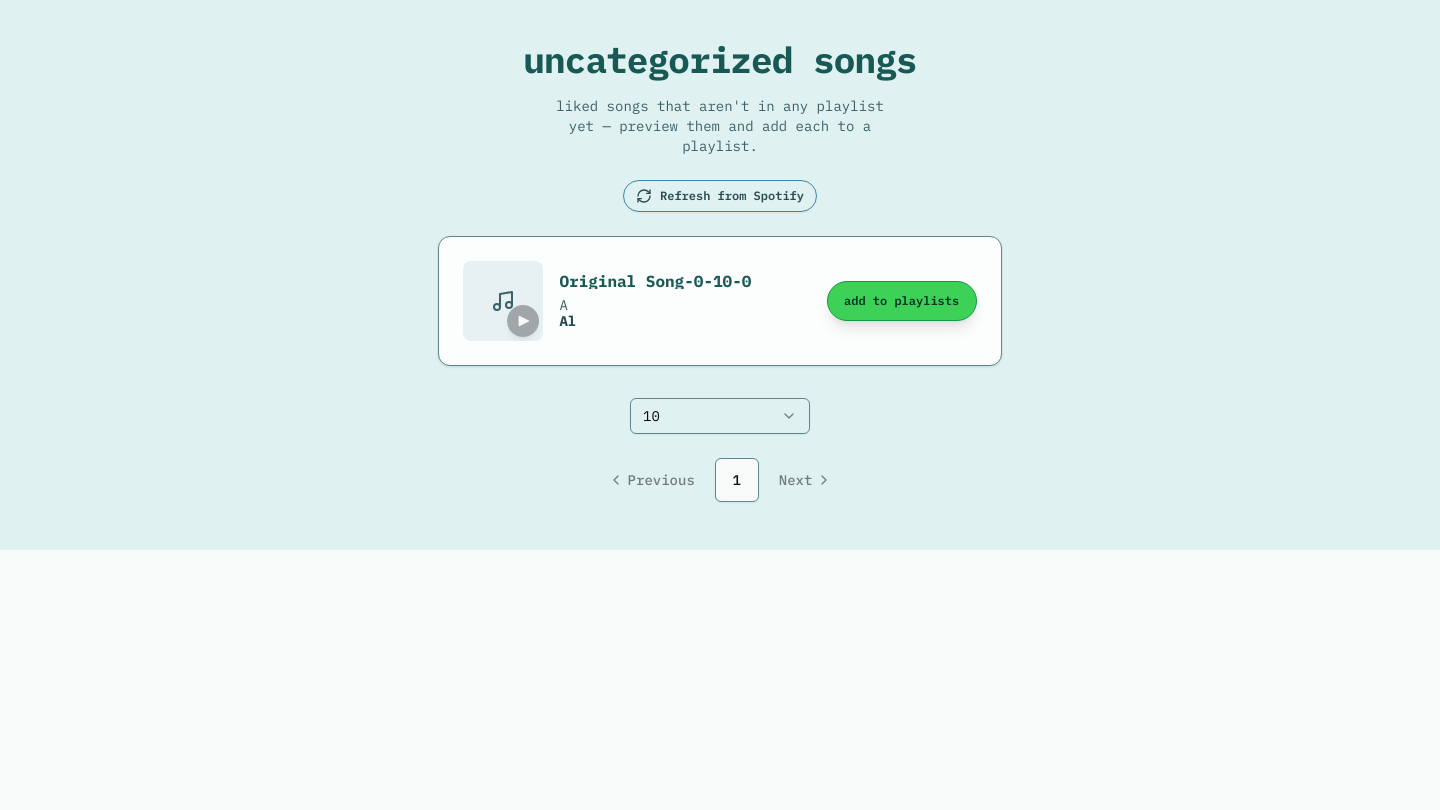
Organize page › refresh from Spotify control › toasts on failure and leaves the displayed songs unchanged
Check: the heading "Original Song-0-10-0" is shown, box [559,273,751,289]
Click the button "Refresh from Spotify" at point(720, 196), box [623,180,817,212]
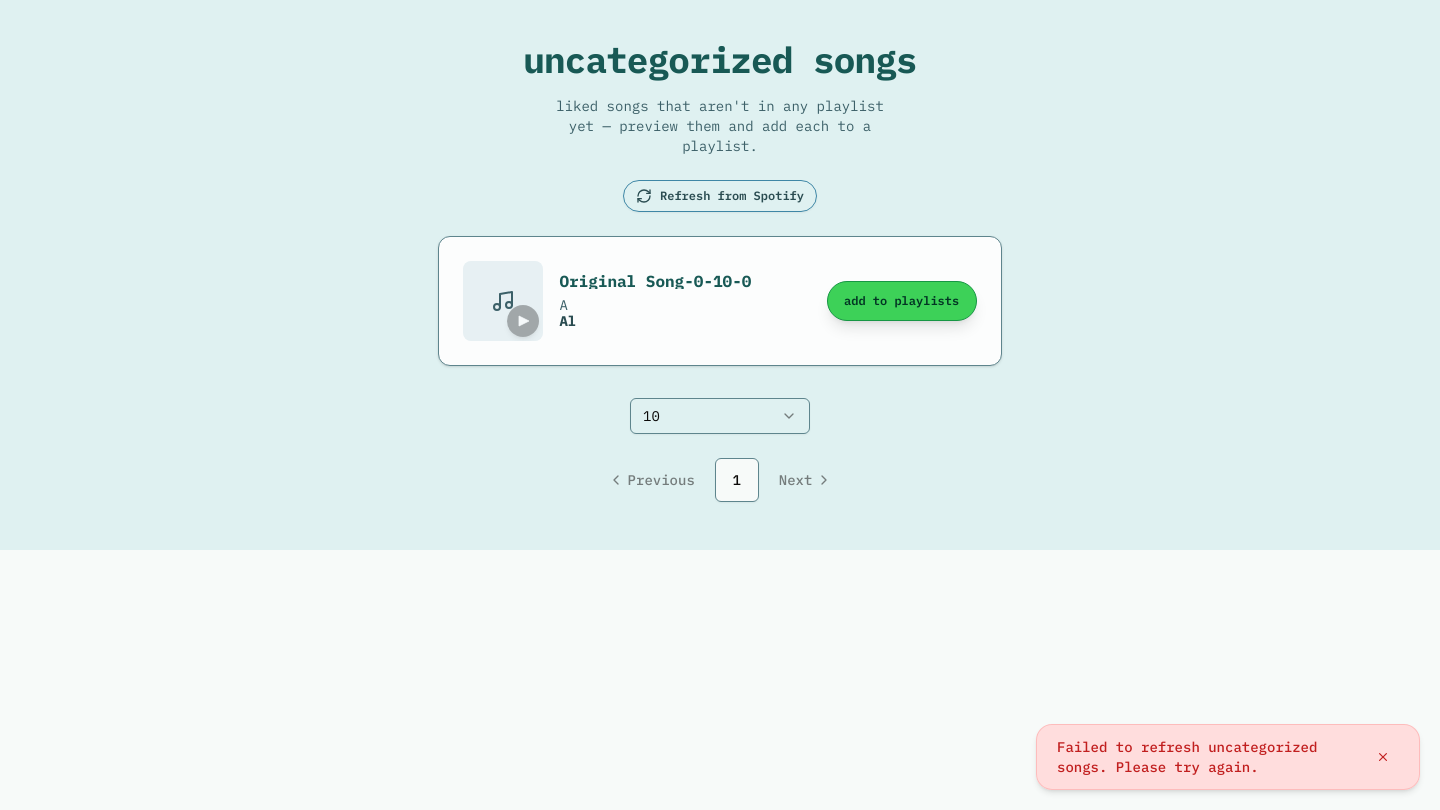
Check: the heading "Original Song-0-10-0" is shown, box [559,273,751,289]
Check: the text "Failed to refresh uncategorized songs. Please try again." is shown, box [1057,737,1355,777]
